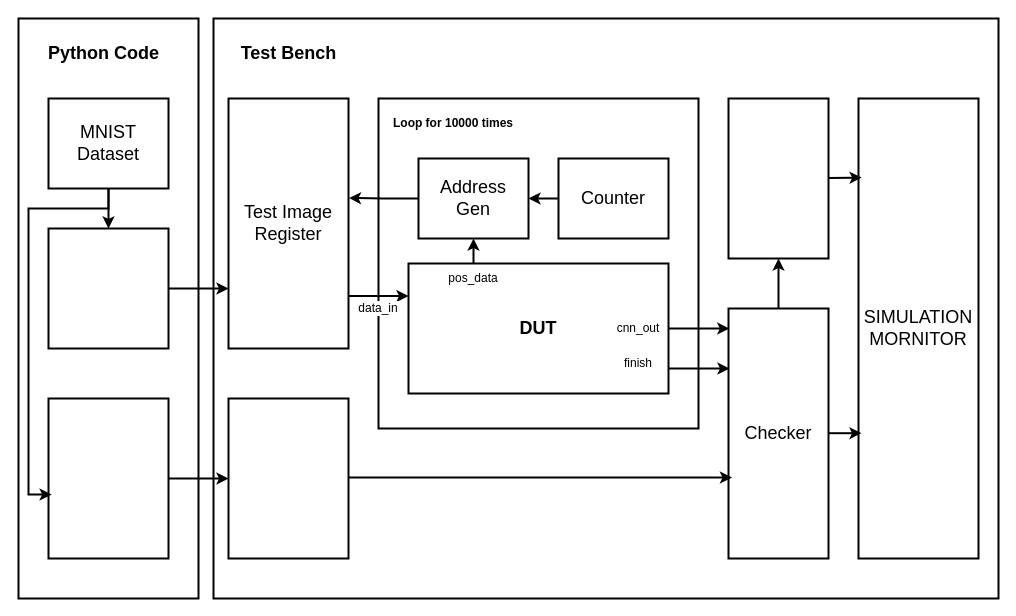
Image size: 1016x616. Some labels were removed from this diagram. Here are the shapes that lost their labels. From the top down, the box of each, then its label:
(727, 97, 829, 259): Score Register
(47, 227, 169, 349): Test Image Memory File
(47, 397, 169, 559): Test Image Label Memory File
(227, 397, 349, 559): Test Image Label Register
